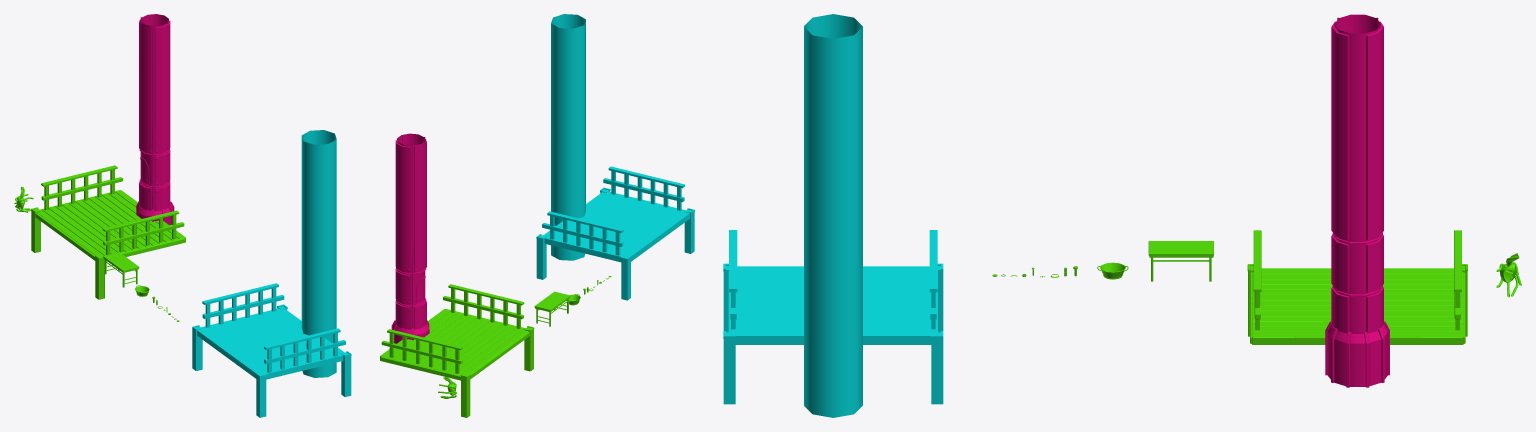
The model's file is tower_pier_assets.fbx.
3 views of the same model, side by side, from view 1: azimuth 30°, elevation 25°; view 2: azimuth 150°, elevation 25°; view 3: azimuth 270°, elevation 25° (orthographic). The views are drawn at different scales.
Parts seen in each view (by area): view 1: pier_lod_part.001, pier_lod_part, pier_base, tower_part.005, tower_part.003, pier_lod_part.002, pier_fence_poles, tower_part, pier_lod_part.004, pier_lod_part.005, pier_poles, pier_fence_log2 (+9 smaller); view 2: pier_lod_part.001, pier_lod_part, pier_base, tower_part.005, tower_part.003, pier_lod_part.002, pier_fence_poles, tower_part, pier_lod_part.005, pier_lod_part.004, pier_poles, pier_fence_log2 (+11 smaller); view 3: pier_lod_part.001, pier_base, pier_lod_part, tower_part.005, tower_part, tower_part.009, pier_lod_part.006, tower_part.007, tower_part.006, table_bonk, tower_part.010, pier_lod_part.003 (+2 smaller).
Part boxes in pixels (box(x1,y1,x2,y2)): pier_lod_part.001: box(301, 130, 336, 377); pier_lod_part: box(197, 308, 344, 379); pier_base: box(37, 190, 185, 255); tower_part.005: box(155, 15, 170, 153); tower_part.003: box(139, 19, 151, 153); pier_lod_part.002: box(205, 288, 337, 372); pier_fence_poles: box(44, 169, 176, 254); tower_part: box(140, 14, 168, 210); pier_lod_part.004: box(192, 325, 266, 417); pier_lod_part.005: box(202, 295, 345, 363); pier_poles: box(31, 207, 104, 299); pier_fence_log2: box(41, 177, 184, 245); pier_lod_part.001: box(551, 14, 585, 260); pier_lod_part: box(543, 191, 689, 262); pier_base: box(380, 309, 527, 375); tower_part.005: box(395, 136, 410, 272); tower_part.003: box(414, 139, 426, 272); pier_lod_part.002: box(550, 171, 681, 255); pier_fence_poles: box(389, 288, 520, 373); tower_part: box(397, 133, 424, 329); pier_lod_part.005: box(542, 178, 684, 246); pier_lod_part.004: box(620, 208, 694, 300); pier_poles: box(460, 326, 534, 417); pier_fence_log2: box(381, 296, 523, 364); pier_lod_part.001: box(804, 14, 862, 417); pier_base: box(1252, 269, 1463, 344); pier_lod_part: box(728, 266, 937, 344); tower_part.005: box(1331, 21, 1383, 240); tower_part: box(1334, 14, 1380, 333); tower_part.009: box(1327, 324, 1387, 386); pier_lod_part.006: box(723, 331, 943, 404); tower_part.007: box(1331, 234, 1383, 292); tower_part.006: box(1331, 287, 1383, 333); table_bonk: box(1148, 241, 1213, 281); tower_part.010: box(1325, 321, 1389, 387); pier_lod_part.003: box(729, 230, 937, 292).
Bounding box in the file's own units: 847 × 1645 × 3140.
